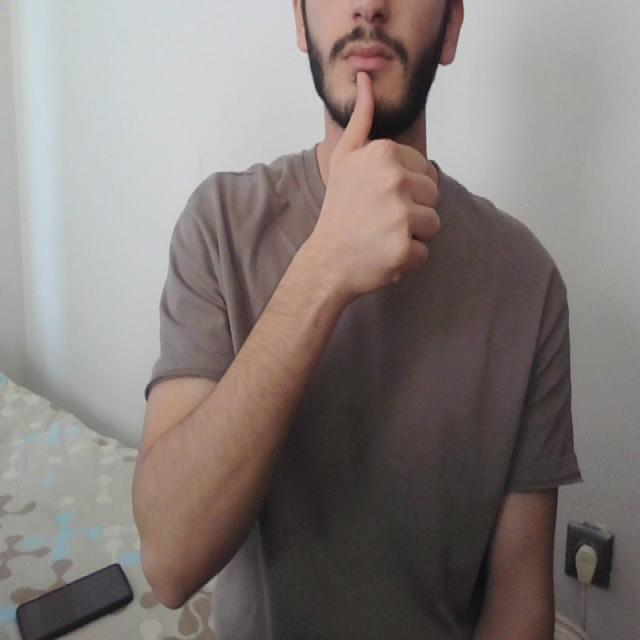Baba: (338, 29, 395, 132)
